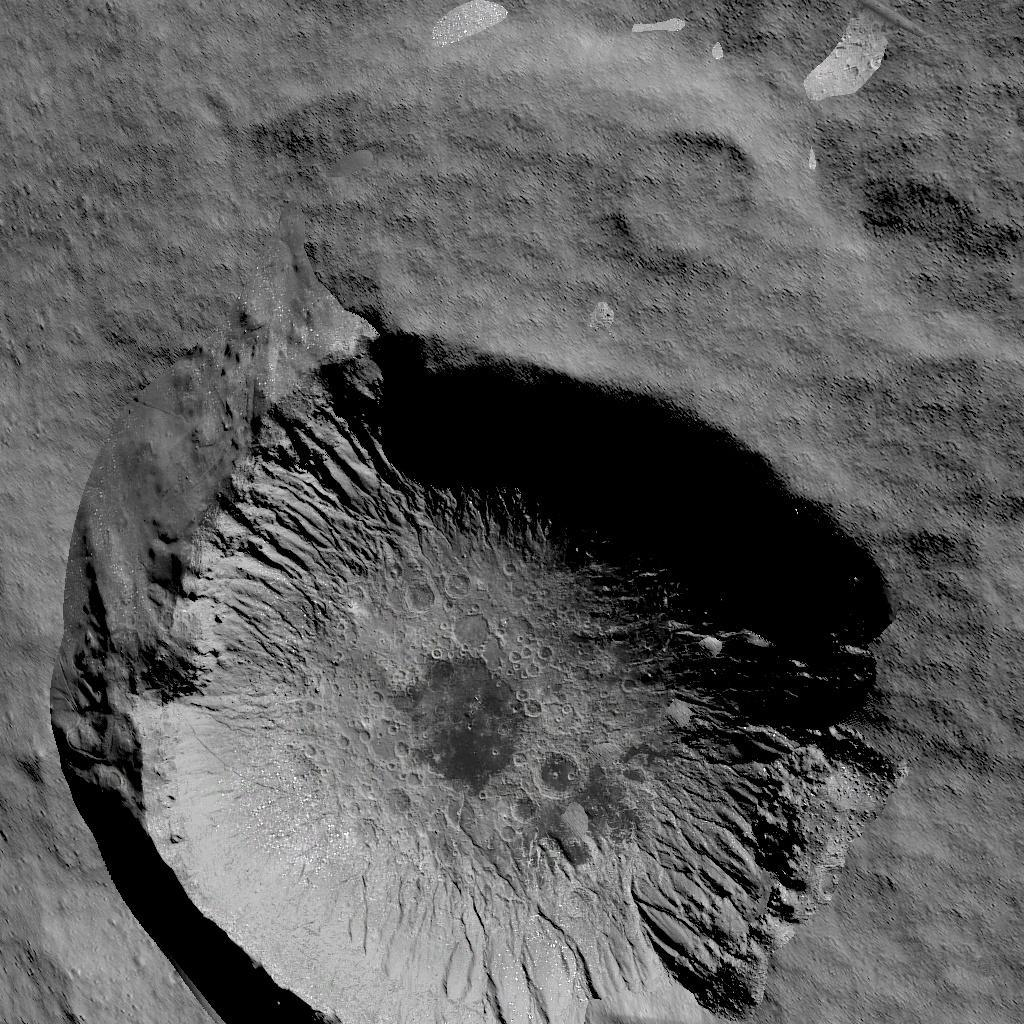Crater: (40, 273, 907, 1024), (607, 96, 773, 266)
Plan surface: (9, 0, 577, 260)
